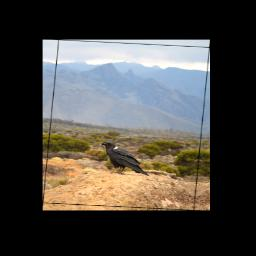Crow: (96, 140, 154, 178)
